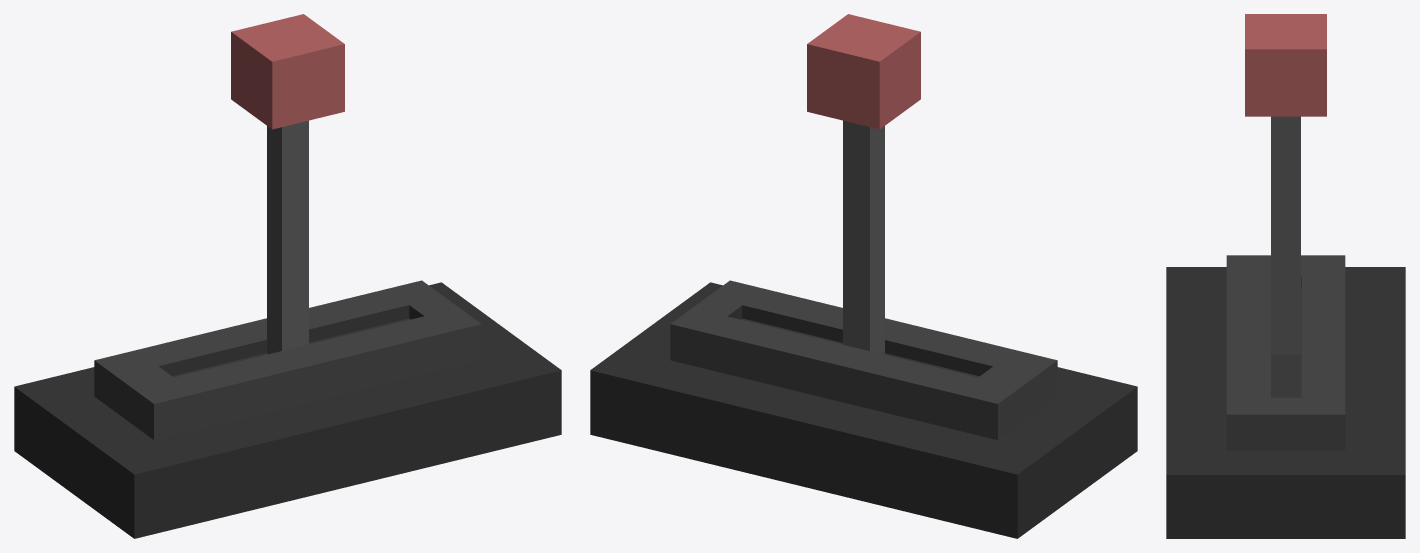
File: lever center.fbx
3 renders of one model, left to right at view 1: azimuth 30°, elevation 25°; view 2: azimuth 150°, elevation 25°; view 3: azimuth 270°, elevation 25°, orthographic.
Visible parts, largest first — view 1: pCube5, polySurface2; view 2: pCube5, polySurface2; view 3: pCube5, polySurface2.
Boxes of the visible parts, x1,y1,x2,y2 form: pCube5: (14,280,561,538); polySurface2: (231,14,344,354); pCube5: (590,280,1137,538); polySurface2: (807,14,920,354); pCube5: (1166,255,1405,538); polySurface2: (1245,14,1326,354).
Bounding box in the file's own units: 1.72 × 1.56 × 0.8379.
